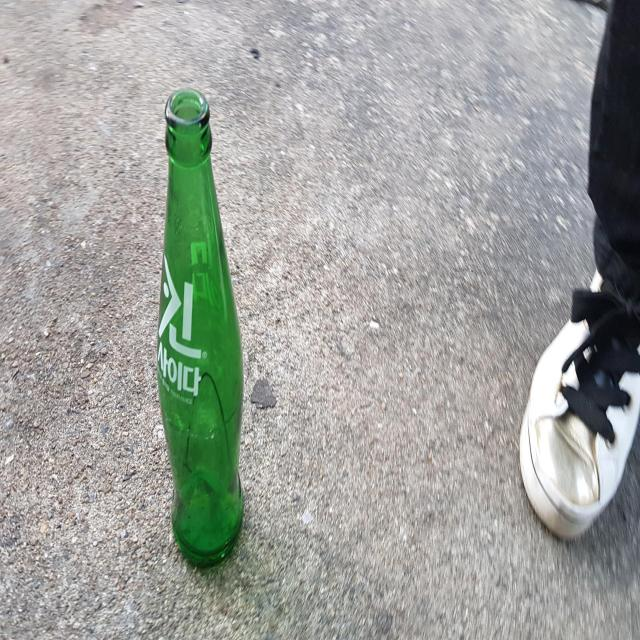glass: (156, 87, 243, 566)
